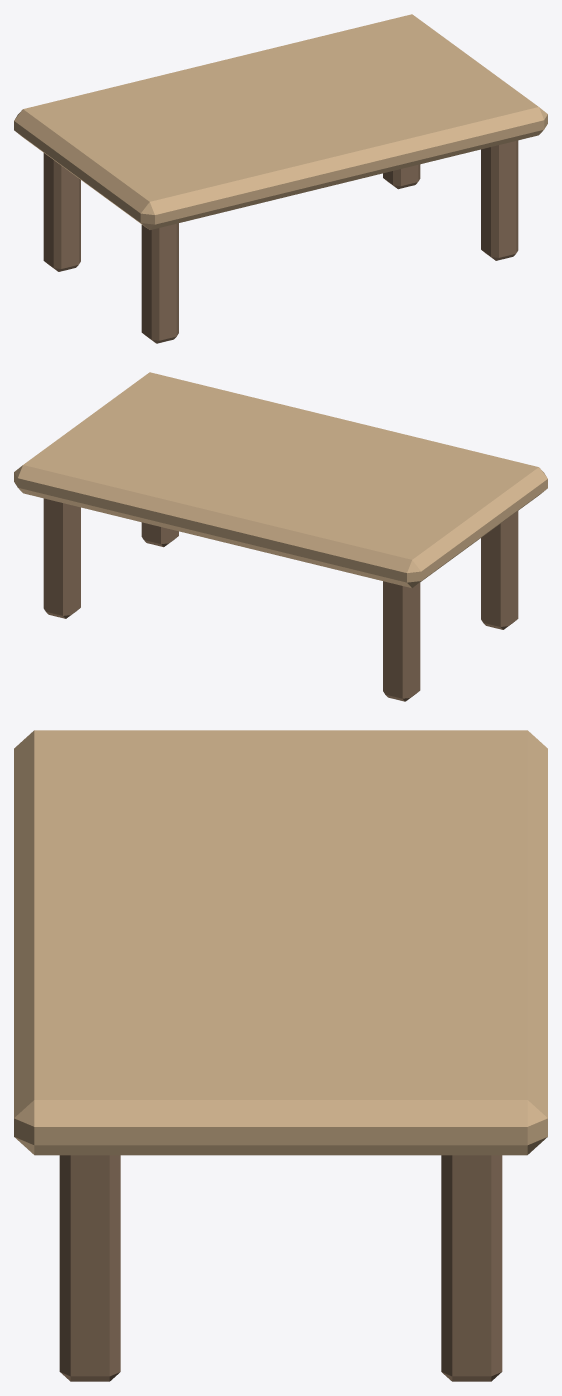
Rendered from feudal-japan-castle-town-low-table-b4cd30e9__26421.glb.
3 renders of one model, top to bottom at view 1: azimuth 30°, elevation 25°; view 2: azimuth 150°, elevation 25°; view 3: azimuth 270°, elevation 25°, orthographic. The views are drawn at different scales.
Visible parts, largest first — view 1: low-table; view 2: low-table; view 3: low-table.
Boxes of the visible parts, x1=… form: low-table: x1=14, y1=14, x2=547, y2=343; low-table: x1=14, y1=372, x2=547, y2=701; low-table: x1=14, y1=730, x2=547, y2=1381.
Size of the model in its own units: 1.2 by 0.43 by 0.7.
